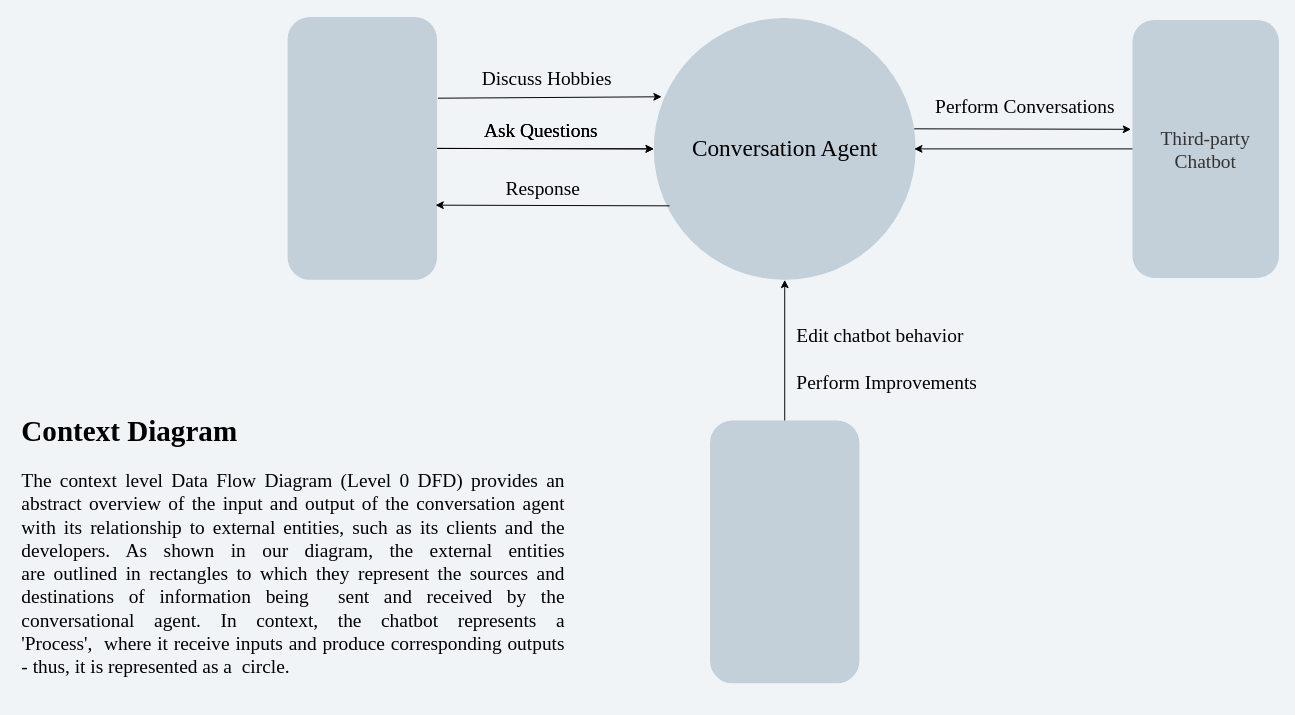
The diagram is 1295 pixels wide and 715 high, and some of its shapes have lost their labels. The shapes that lost their labels are listed below. From the top down, each one's box as (x1, y1, x2, y2) in pixels, then its label:
(287, 16, 436, 279): User
(710, 420, 859, 683): Developer
